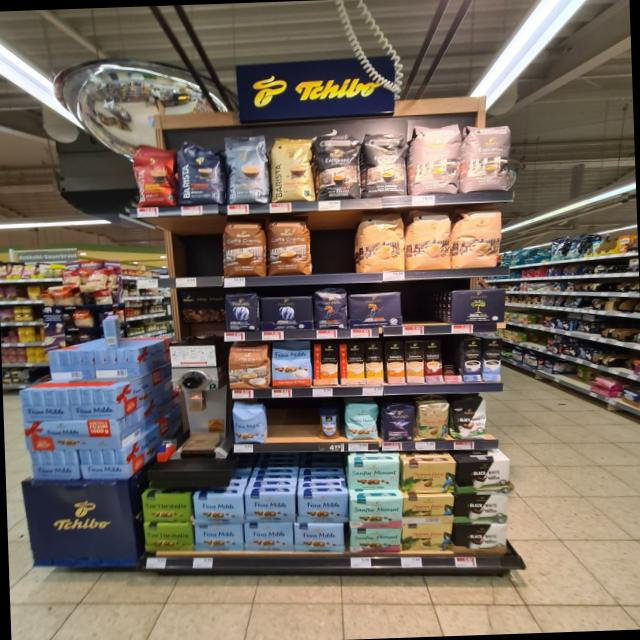AB Bohne: (223, 290, 258, 332)
AB Gemahlen: (260, 295, 314, 331)
BM Gemahlen: (450, 287, 508, 323)
BW Bohne: (451, 397, 488, 440)
BW Gemahlen: (456, 458, 514, 494), (452, 522, 507, 555), (453, 494, 510, 524)
Barista CB: (268, 135, 316, 202)
Barista CC: (222, 132, 269, 204)
Barista Espresso: (175, 136, 225, 205)
Barista Kolumbien: (131, 142, 177, 209)
C Fino Bohne: (381, 398, 415, 442)
CC Mild: (452, 204, 503, 268), (357, 208, 405, 272), (404, 207, 452, 270)
CC Vollmundig: (226, 344, 270, 389)
CC Vollmundig 36 Pads: (266, 212, 312, 276), (220, 214, 265, 276)
Colombia BB Bohne: (416, 400, 450, 440)
Colombia BB Gemahlen: (401, 460, 458, 496), (403, 493, 454, 525), (401, 522, 452, 552)
Empty Shelf: (150, 215, 222, 277), (311, 211, 358, 274), (266, 404, 318, 442), (402, 288, 449, 325), (442, 338, 462, 376)
Espresso Aromatisch: (409, 123, 462, 194), (463, 120, 512, 192)
Espresso Kraftig: (314, 130, 361, 200)
Espresso S Art: (362, 129, 408, 197)
FM 36 Pads: (270, 340, 312, 388)
FM Bohne: (229, 400, 266, 444)
FM Gemahlen: (244, 489, 296, 525), (292, 520, 344, 555), (296, 490, 349, 524), (192, 492, 244, 526), (244, 522, 292, 552), (192, 524, 243, 551)
FM Instant: (316, 404, 342, 440)
Herzhatfe Mundig: (139, 491, 192, 524), (142, 520, 194, 552)
LG Bohne: (313, 288, 348, 330)
LG Gemahlen: (348, 292, 402, 328)
SM Bohne: (342, 400, 379, 440)
SM Gemahlen: (348, 496, 404, 528), (348, 457, 400, 491), (350, 524, 402, 554)
Simo CCMild: (338, 342, 364, 386)
Simo CCMild bigpack: (364, 341, 384, 383)
Simo CCVollmundig: (313, 342, 339, 386)
Simo CCVollmundig bigpack: (386, 341, 404, 384)
Simo Decaff: (404, 340, 424, 382)
Simo Es Caramel: (423, 339, 442, 382)
Simo Es Kraft: (463, 338, 482, 382)
Simo Es Vanilla: (482, 337, 502, 380)
